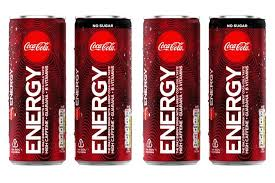coke-can-energy: (6, 13, 69, 168), (75, 13, 135, 167), (147, 13, 202, 165), (212, 15, 263, 164)
